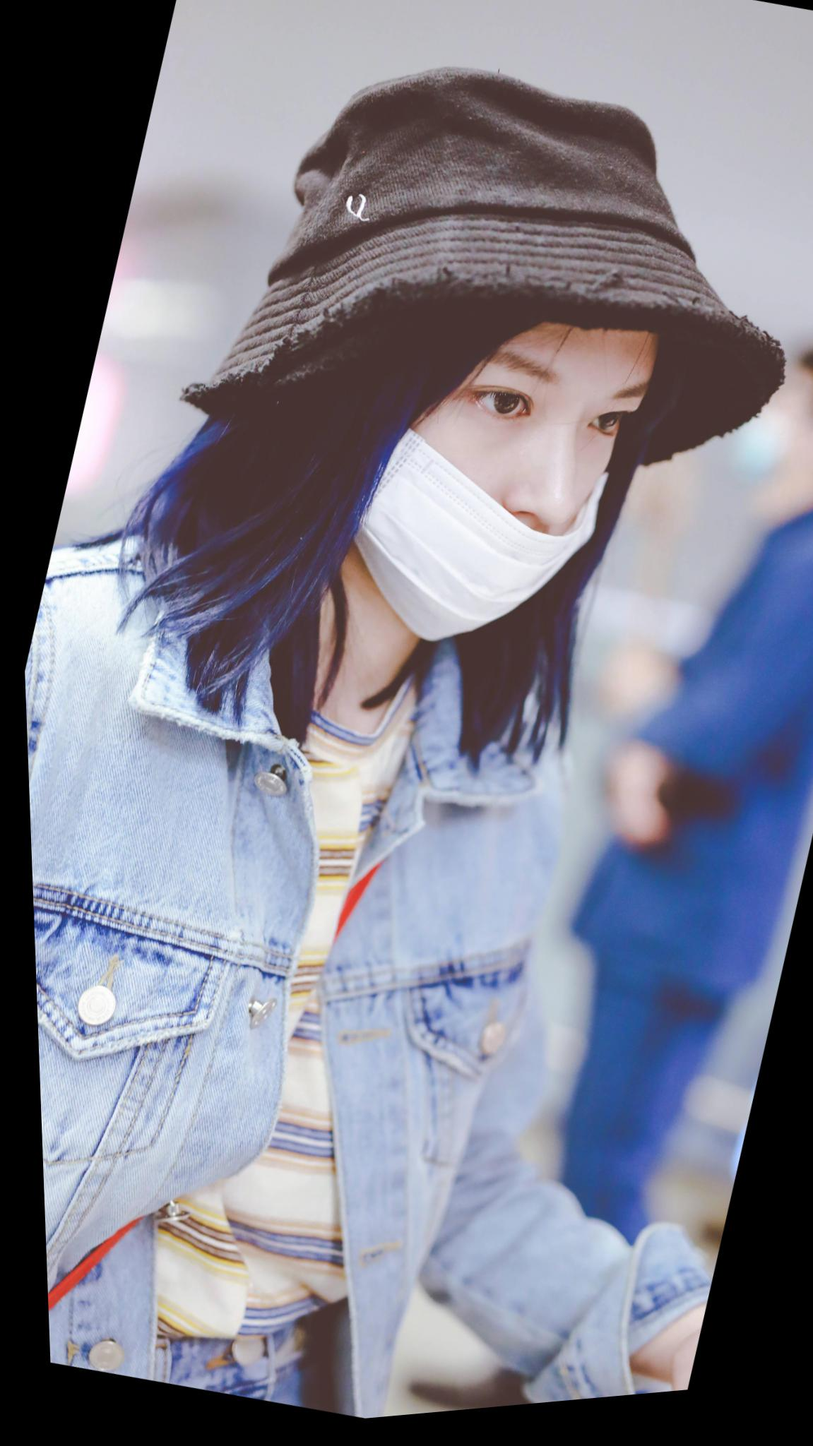OK: (716, 373, 813, 510)
WRONG: (325, 295, 668, 695)
